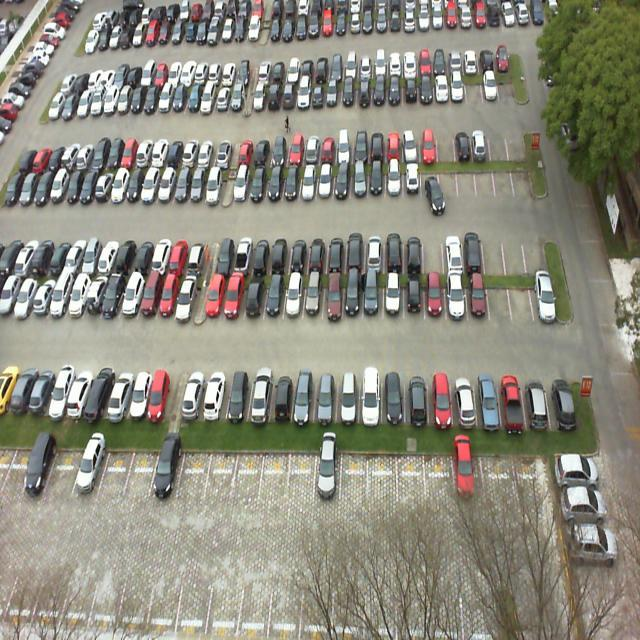space-empty: (94, 445, 132, 502), (123, 442, 158, 502), (43, 445, 78, 499), (231, 451, 264, 504), (204, 448, 238, 498), (175, 445, 208, 496), (259, 448, 290, 500), (288, 449, 314, 504), (486, 273, 511, 320), (483, 227, 507, 275), (509, 276, 532, 320), (525, 229, 548, 272), (505, 227, 526, 272), (425, 229, 445, 276), (511, 156, 534, 196), (458, 162, 478, 198), (478, 158, 496, 198), (494, 160, 514, 195), (440, 162, 458, 195)
space-occupied: (71, 446, 106, 501), (148, 444, 182, 500), (545, 370, 576, 426), (499, 373, 528, 432), (312, 451, 342, 507), (223, 370, 254, 424), (21, 446, 55, 494), (523, 371, 550, 428), (64, 367, 93, 420), (476, 372, 502, 429), (117, 271, 146, 322), (222, 272, 249, 326), (83, 371, 112, 421), (106, 371, 134, 422), (452, 374, 479, 426), (136, 267, 162, 320), (428, 375, 454, 428), (127, 370, 154, 420), (312, 372, 336, 428), (268, 373, 294, 424), (154, 274, 180, 324), (203, 370, 229, 420), (246, 372, 272, 422), (262, 270, 286, 324), (530, 270, 557, 318), (148, 374, 175, 422), (359, 371, 382, 426), (174, 272, 198, 324), (382, 371, 405, 424), (101, 270, 125, 320), (241, 275, 265, 325), (335, 373, 359, 423), (290, 372, 313, 424), (405, 374, 428, 426), (181, 373, 206, 418), (443, 226, 466, 273), (205, 273, 225, 327), (130, 236, 156, 276), (113, 238, 140, 276), (303, 276, 324, 324), (155, 165, 178, 208), (444, 277, 467, 320), (467, 275, 488, 322), (148, 237, 172, 278), (188, 164, 211, 206), (363, 276, 384, 322), (282, 276, 302, 324), (167, 238, 192, 276), (322, 277, 343, 322), (188, 239, 212, 278), (139, 165, 162, 205), (287, 234, 310, 274), (404, 226, 424, 272), (404, 274, 424, 320), (426, 276, 446, 322), (172, 165, 193, 208), (382, 231, 404, 272), (229, 238, 252, 277), (204, 166, 226, 206), (464, 228, 484, 272), (231, 164, 252, 205), (213, 239, 236, 276), (384, 276, 402, 322), (307, 234, 328, 273), (345, 231, 364, 274), (268, 236, 290, 272), (251, 235, 272, 272), (345, 275, 362, 320), (324, 235, 344, 273), (364, 235, 383, 273), (299, 166, 317, 205), (267, 166, 284, 207), (283, 164, 300, 205), (250, 166, 268, 204), (368, 162, 386, 200), (422, 163, 440, 198), (333, 165, 350, 202), (388, 162, 404, 200), (403, 163, 420, 198), (316, 166, 332, 200), (351, 164, 367, 198)
